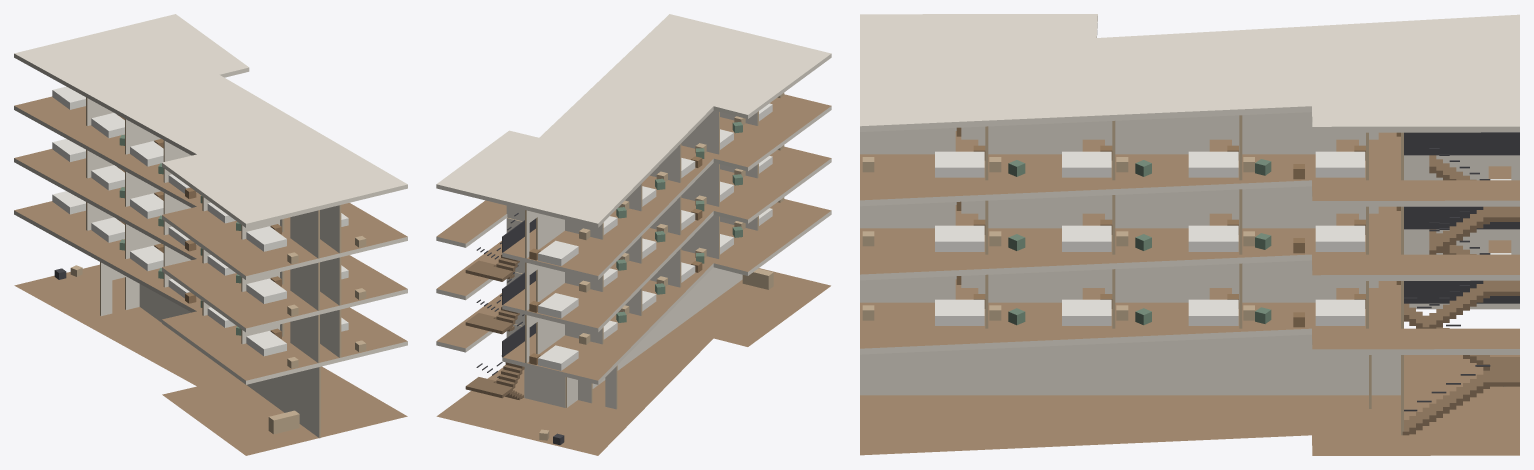
The model's file is interior.glb.
The picture shows the model from 3 angles, left to right: view 1: azimuth 30°, elevation 25°; view 2: azimuth 150°, elevation 25°; view 3: azimuth 270°, elevation 25°; orthographic projection. The views are drawn at different scales.
Parts seen in each view (by area): view 1: slabs, partitions, coarse-s2, coarse-s1, coarse-s3, coarse-s0; view 2: slabs, partitions, stair, coarse-s2, coarse-s1, coarse-s3, coarse-s0; view 3: slabs, partitions, stair, coarse-s2, coarse-s3, coarse-s1.
Boxes of the visible parts, x1,y1,x2,y2 form: slabs: (14, 14, 407, 455); partitions: (86, 97, 341, 438); coarse-s2: (52, 139, 366, 316); coarse-s1: (52, 191, 366, 368); coarse-s3: (52, 86, 366, 264); coarse-s0: (54, 265, 299, 434); slabs: (436, 14, 831, 455); partitions: (506, 110, 758, 409); stair: (465, 213, 535, 399); coarse-s2: (529, 145, 784, 318); coarse-s1: (529, 197, 784, 370); coarse-s3: (529, 93, 784, 265); coarse-s0: (539, 268, 773, 445); slabs: (860, 14, 1519, 455); partitions: (860, 112, 1519, 435); stair: (1402, 132, 1519, 435); coarse-s2: (862, 179, 1511, 253); coarse-s3: (862, 127, 1400, 179); coarse-s1: (862, 253, 1511, 327).
Size of the model in its own units: 10.71 by 14.58 by 26.46.
